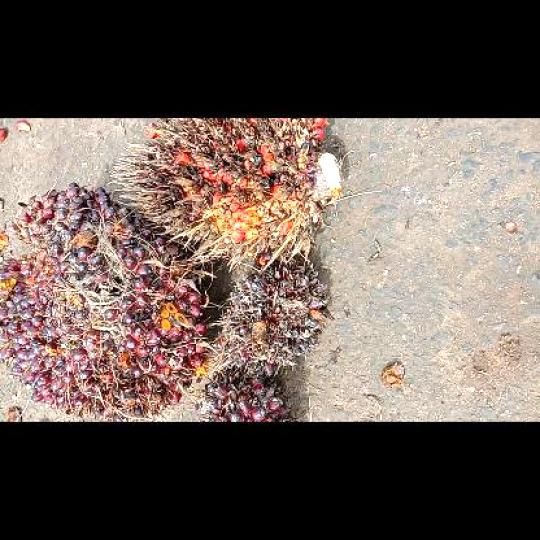masak: (1, 180, 209, 420)
terlalu masak: (105, 117, 344, 272)
